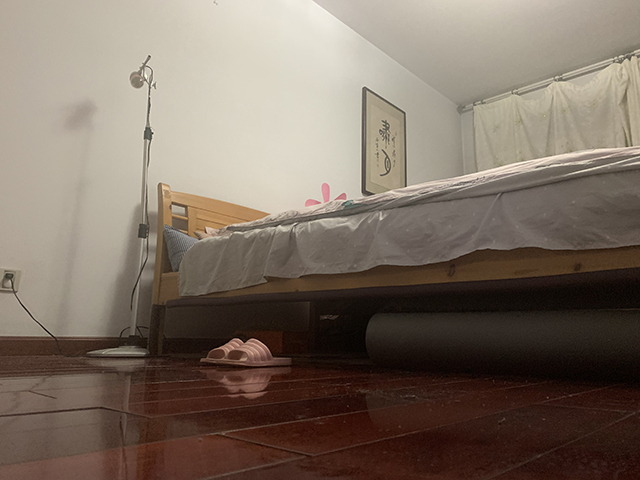bed: (147, 143, 639, 359)
slippers: (221, 336, 294, 368)
wire: (3, 126, 161, 358)
